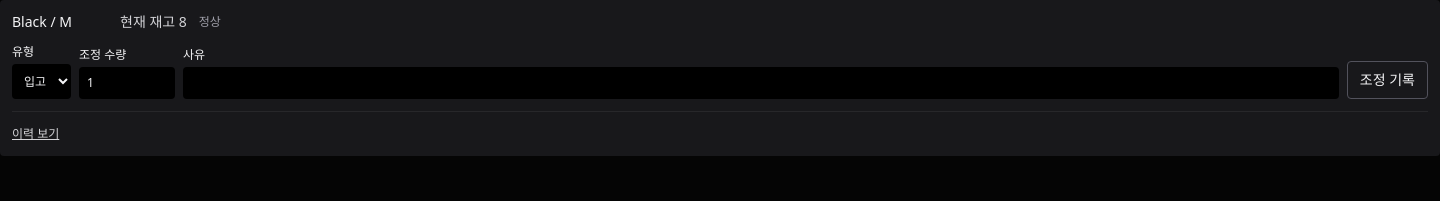
it: AdminInventoryAdjustmentPanel › defaults disposal to a negative quantity and shows a safe server message
The image size is (1440, 201).
the operator changes the type and submits a reason
Select "폐기" in the dropdown labelled "유형" at (42, 82), box top-left (12, 64), bottom-right (71, 99)
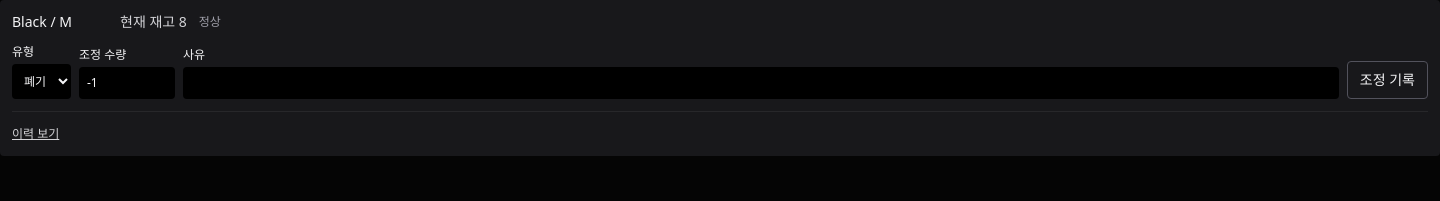
Type "파손" into the field named "variant-1 조정 사유" at (761, 83), box top-left (183, 67), bottom-right (1339, 99)
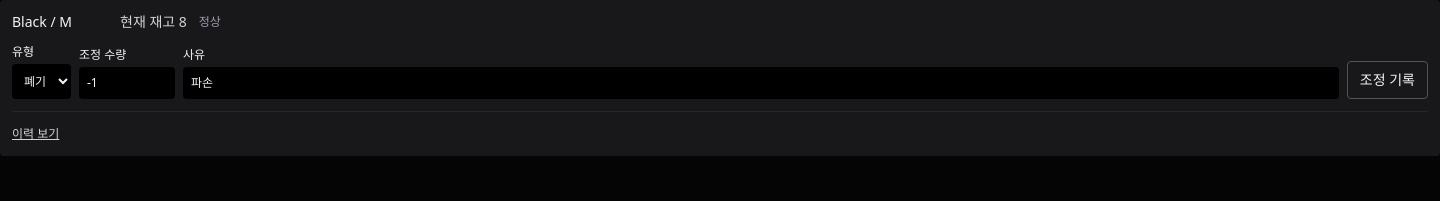
Expected: the number field named "variant-1 조정 수량" holds "-1", top-left (79, 67), bottom-right (175, 99)
Click the button "조정 기록" at (1387, 80), box top-left (1347, 61), bottom-right (1428, 99)
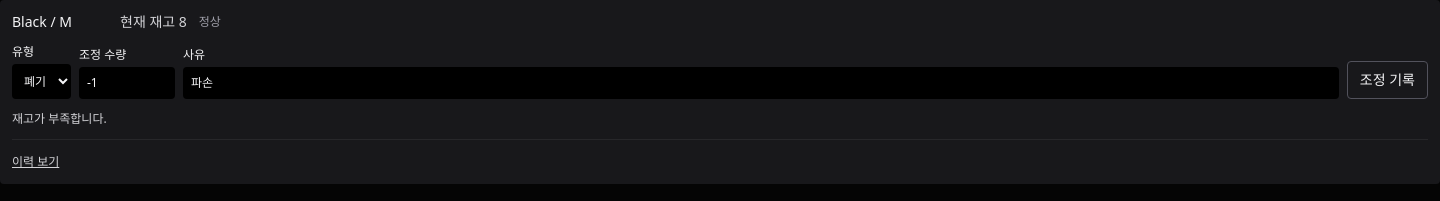
Expected: the message reads "재고가 부족합니다.", top-left (12, 110), bottom-right (107, 127)
